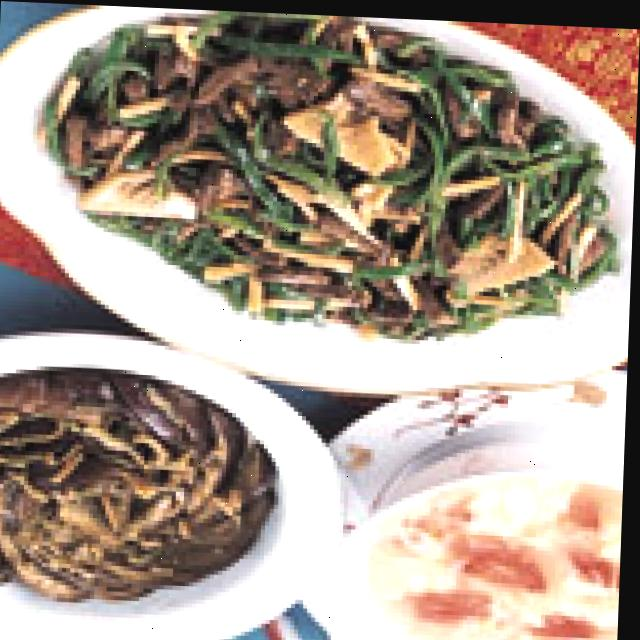牛肉菜式: (0, 0, 640, 393)
